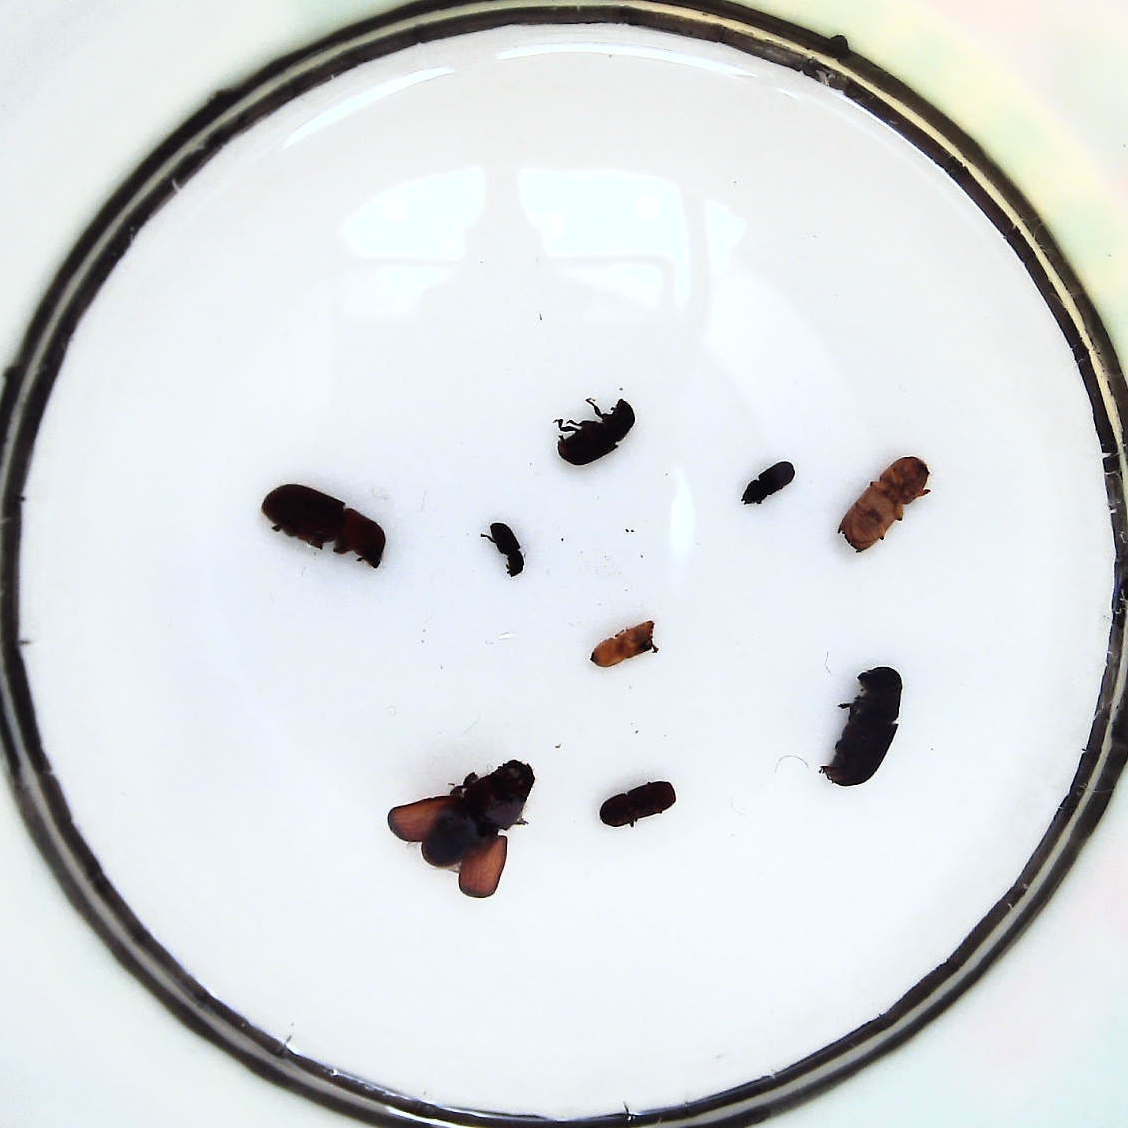Leconte: (387, 760, 531, 899), (262, 484, 386, 570), (822, 666, 903, 787)
acuminatus: (741, 462, 795, 507), (491, 520, 523, 579)
armandi: (558, 400, 636, 466), (600, 781, 676, 829)
coleoptera: (590, 619, 655, 667)
linnaeus: (837, 455, 931, 552)
